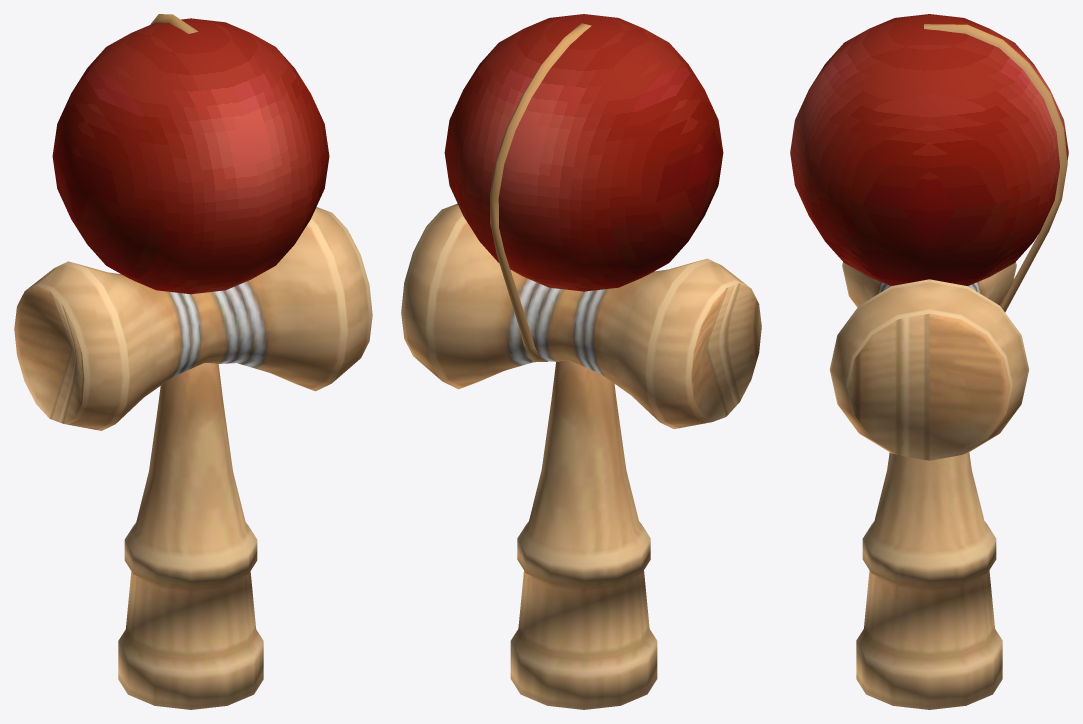
The model's file is rmk_oth_kendama.dae.
3 renders of one model, left to right at view 1: azimuth 30°, elevation 25°; view 2: azimuth 150°, elevation 25°; view 3: azimuth 270°, elevation 25°, orthographic.
Visible parts, largest first — view 1: rmk_oth_kendama; view 2: rmk_oth_kendama; view 3: rmk_oth_kendama.
Boxes of the visible parts, x1,y1,x2,y2 form: rmk_oth_kendama: [14, 14, 372, 709]; rmk_oth_kendama: [401, 14, 761, 709]; rmk_oth_kendama: [790, 14, 1068, 709].
Bounding box in the file's own units: 24.05 × 52.89 × 20.4.
2 materials, 2 textured.
